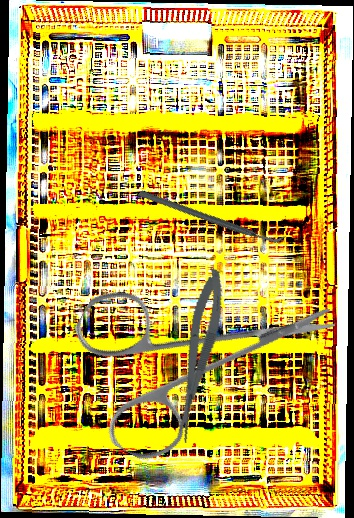Chopper: (136, 142, 287, 290)
Iris Scissors: (34, 205, 341, 511)
Micro Scissor: (164, 266, 232, 445)
